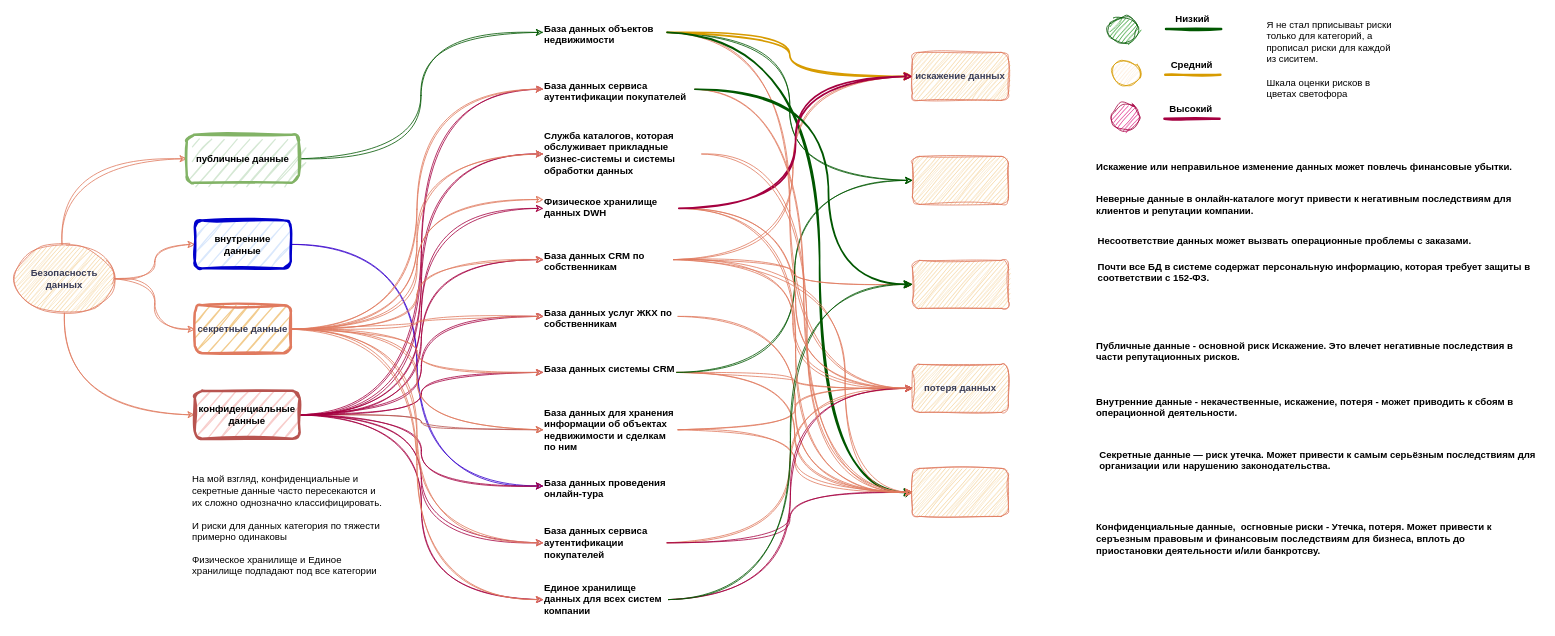
Some shapes in this 1555 by 636 pixel diagram are drawn without their labels. The shapes that lost their labels are listed below. From the top down, each one's centre as x and y in pixels, then its label:
At (x=960, y=180): "некачественные данные".
At (x=960, y=284): "обесценивание данных".
At (x=960, y=492): "утечка".
